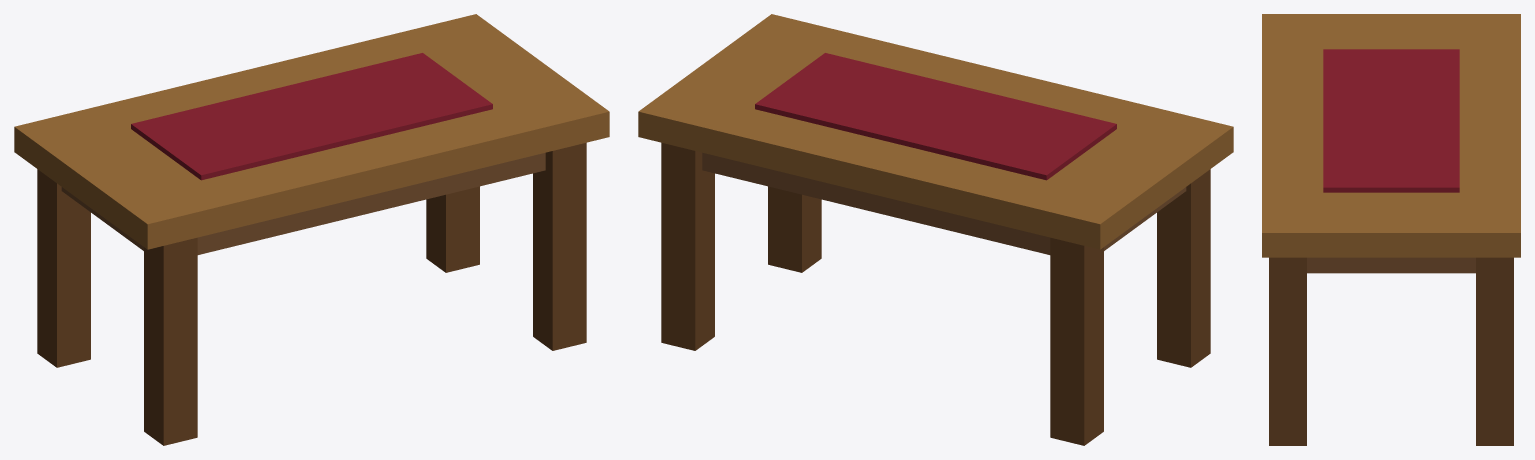
Rendered from table.glb.
3 renders of one model, left to right at view 1: azimuth 30°, elevation 25°; view 2: azimuth 150°, elevation 25°; view 3: azimuth 270°, elevation 25°, orthographic. The views are drawn at different scales.
Visible parts, largest first — view 1: top, runner, leg, leg.002, leg.001, apron, leg.003; view 2: top, runner, leg.001, leg.003, leg, apron, leg.002; view 3: top, runner, leg.002, leg.003, apron.
Boxes of the visible parts, x1=… form: top: x1=14, y1=14, x2=609, y2=249; runner: x1=131, y1=53, x2=492, y2=180; leg: x1=144, y1=237, x2=197, y2=445; leg.002: x1=533, y1=142, x2=586, y2=350; leg.001: x1=37, y1=169, x2=90, y2=367; apron: x1=61, y1=152, x2=545, y2=254; leg.003: x1=426, y1=186, x2=479, y2=272; top: x1=638, y1=14, x2=1233, y2=249; runner: x1=755, y1=53, x2=1116, y2=180; leg.001: x1=1050, y1=237, x2=1103, y2=445; leg.003: x1=661, y1=142, x2=714, y2=350; leg: x1=1157, y1=169, x2=1210, y2=367; apron: x1=702, y1=152, x2=1186, y2=254; leg.002: x1=768, y1=186, x2=821, y2=272; top: x1=1262, y1=14, x2=1520, y2=257; runner: x1=1323, y1=49, x2=1459, y2=192; leg.002: x1=1269, y1=257, x2=1306, y2=445; leg.003: x1=1476, y1=257, x2=1513, y2=445; apron: x1=1307, y1=257, x2=1475, y2=273.
Bounding box in the file's own units: 1.9 × 0.92 × 0.95.
